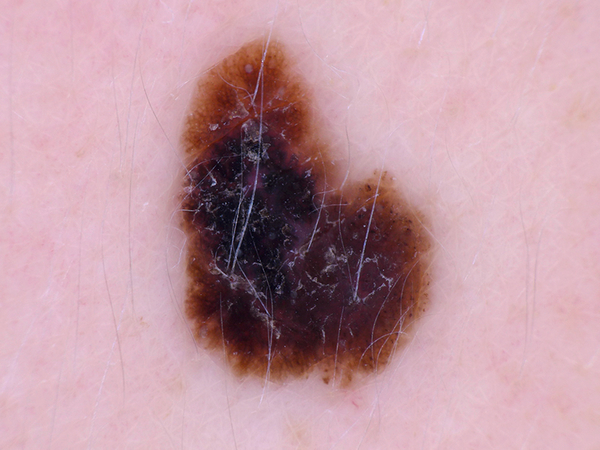Detected Lesion: (169, 29, 437, 400)
